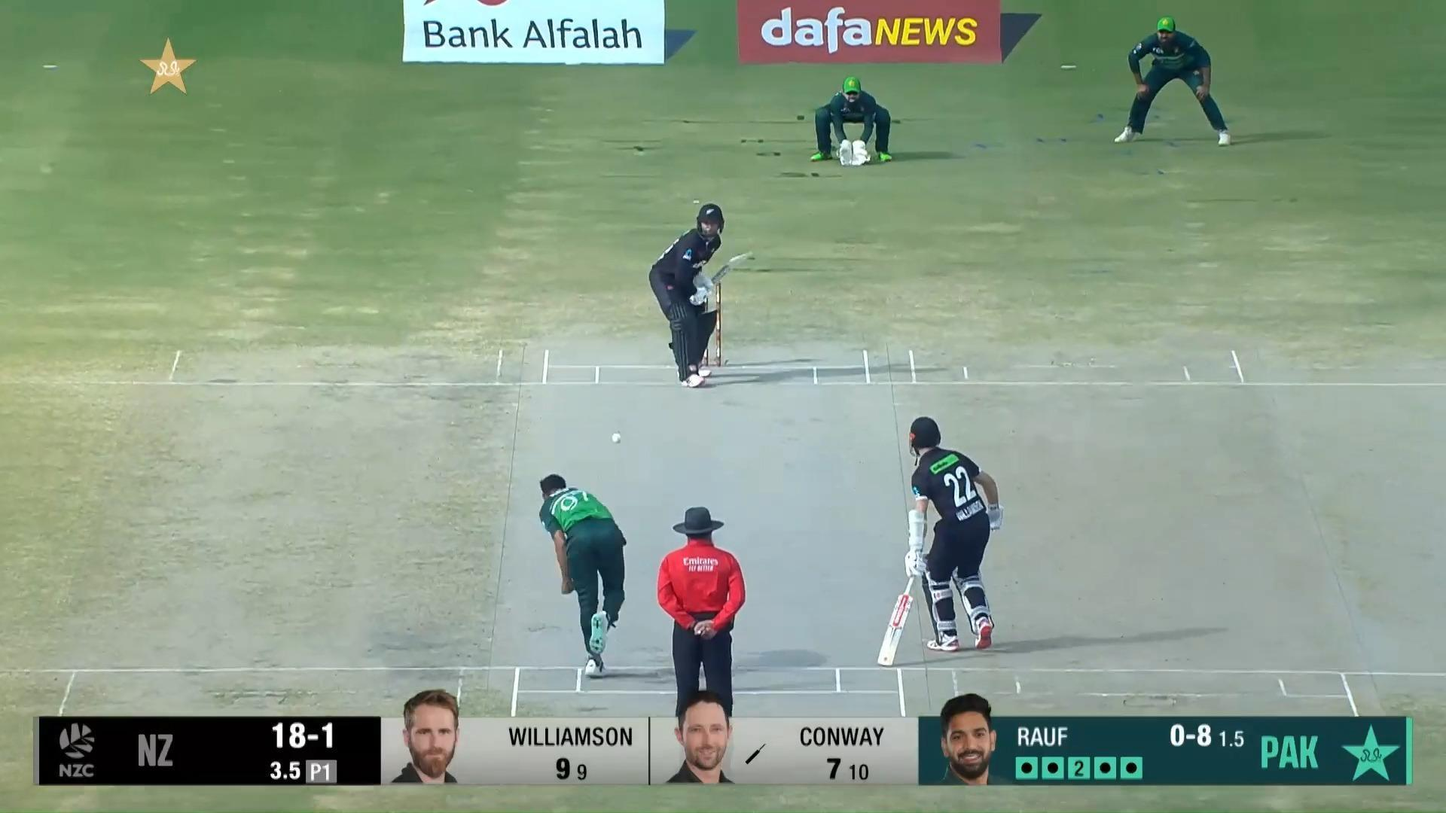BM 1: (648, 204, 752, 388)
BO: (538, 472, 630, 680)
